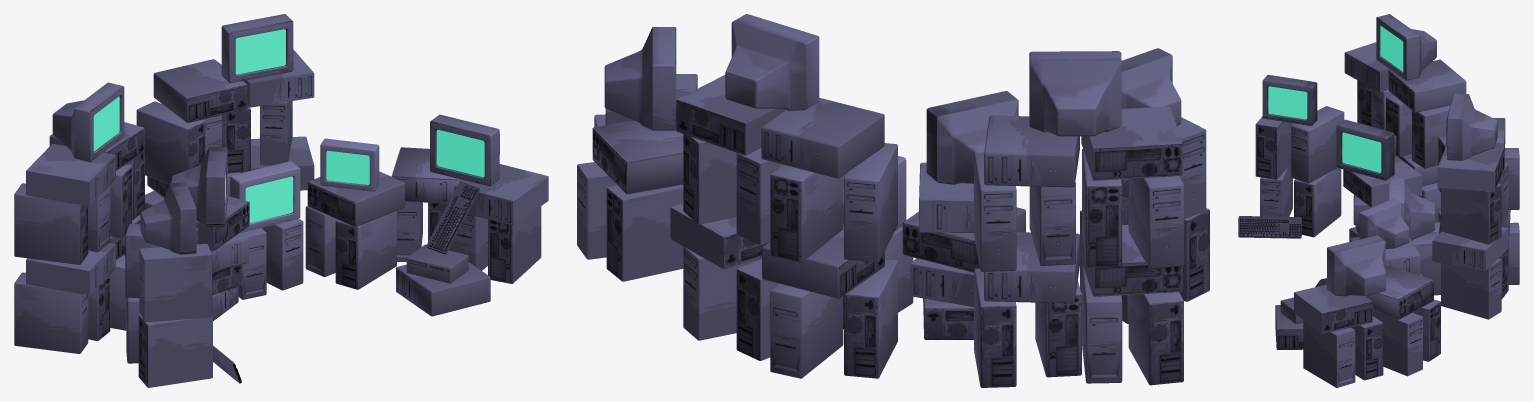
The model's file is room2.glb.
3 views of the same model, side by side, from view 1: azimuth 30°, elevation 25°; view 2: azimuth 150°, elevation 25°; view 3: azimuth 270°, elevation 25° (orthographic). The views are drawn at different scales.
Visible parts, largest first — view 1: PC 01.010_29, PC 01.009_28, PC 01.016_39, PC 01.025_53, Screen_Testimonials, PC 01.033_65, Screen_Contact, Screen_Skills, PC 02.022_66, PC 01.029_60, PC 01.006_19, Screen_Experience (+34 smaller); view 2: Screen_Testimonials, Screen_Skills, PC 01.033_65, PC 02.033_92, PC 02.021_61, PC 02.022_66, PC 01.031_63, Screen_Contact, PC 02.016_47, PC 02.036_100, PC 01.029_60, Screen_Projects (+29 smaller); view 3: Screen_Contact, PC 01.050_95, Screen_Projects, PC 01.041_83, PC 01.005_17, Screen_Skills, PC 02.032_90, PC 01.052_97, PC 01.031_63, Screen_Testimonials, Screen_About, PC 01.004_15 (+29 smaller).
Part boxes in pixels (<box>): PC 01.010_29: <box>139,243,212,322</box>; PC 01.009_28: <box>138,314,212,387</box>; PC 01.016_39: <box>14,272,88,353</box>; PC 01.025_53: <box>14,183,88,264</box>; Screen_Testimonials: <box>221,14,293,83</box>; PC 01.033_65: <box>153,59,247,122</box>; Screen_Contact: <box>430,114,499,186</box>; Screen_Skills: <box>52,82,124,161</box>; PC 02.022_66: <box>26,144,115,205</box>; PC 01.029_60: <box>136,101,205,184</box>; PC 01.006_19: <box>335,210,396,289</box>; Screen_Experience: <box>230,161,300,232</box>; Screen_Testimonials: <box>725,14,819,110</box>; Screen_Skills: <box>1029,51,1121,136</box>; PC 01.033_65: <box>761,98,884,178</box>; PC 02.033_92: <box>606,185,683,281</box>; PC 02.021_61: <box>770,164,843,262</box>; PC 02.022_66: <box>1081,106,1182,180</box>; PC 01.031_63: <box>984,115,1079,187</box>; Screen_Contact: <box>604,27,676,130</box>; PC 02.016_47: <box>770,283,843,378</box>; PC 02.036_100: <box>592,120,683,194</box>; PC 01.029_60: <box>844,143,897,262</box>; Screen_Projects: <box>926,91,1018,184</box>; Screen_Contact: <box>1327,235,1385,296</box>; PC 01.050_95: <box>1441,183,1501,244</box>; Screen_Projects: <box>1336,119,1396,180</box>; PC 01.041_83: <box>1441,258,1501,319</box>; PC 01.005_17: <box>1291,106,1344,183</box>; Screen_Skills: <box>1376,14,1436,80</box>; PC 02.032_90: <box>1303,320,1355,387</box>; PC 01.052_97: <box>1294,284,1372,333</box>; PC 01.031_63: <box>1388,59,1466,112</box>; Screen_Testimonials: <box>1447,93,1497,160</box>; Screen_About: <box>1262,74,1317,125</box>; PC 01.004_15: <box>1294,168,1341,237</box>.
Size of what is drawn, in the model's own units: 12.32 by 5.62 by 7.3.
2 materials, 1 textured.
